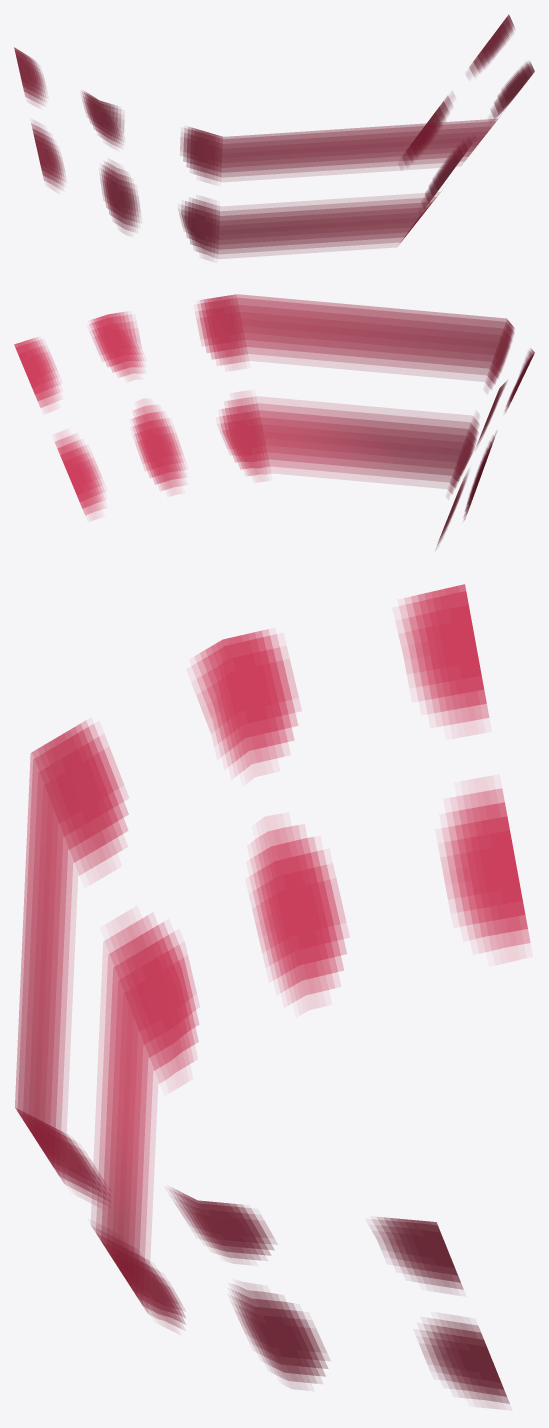
3 renders of one model, top to bottom at view 1: azimuth 30°, elevation 25°; view 2: azimuth 150°, elevation 25°; view 3: azimuth 270°, elevation 25°, orthographic. The views are drawn at different scales.
Visible parts, largest first — view 1: ef_486; view 2: ef_486; view 3: ef_486.
Part boxes in pixels (left/top/right/bottom): ef_486: left=14, top=14, right=534, bottom=260; ef_486: left=14, top=294, right=534, bottom=549; ef_486: left=15, top=584, right=530, bottom=1408.
Size of the model in its own units: 1.18 by 0.5254 by 0.5429.
1 material, 1 textured.
